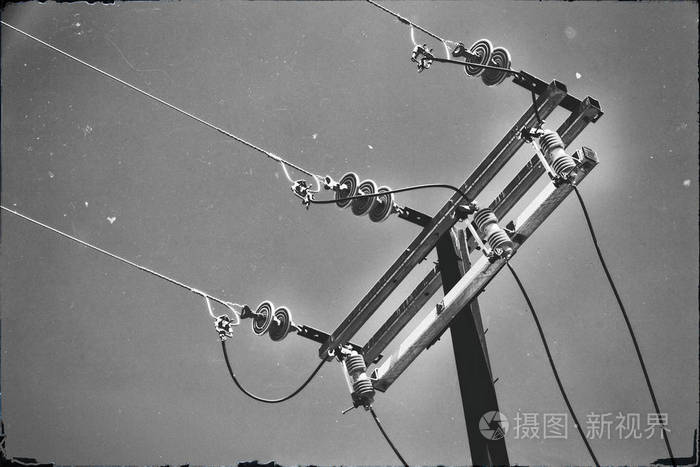insulator: (334, 173, 392, 222), (463, 39, 510, 87), (252, 300, 291, 342)
